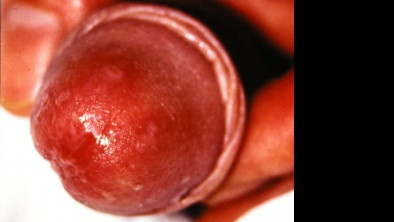SJS-TEN: (12, 46, 209, 222)
